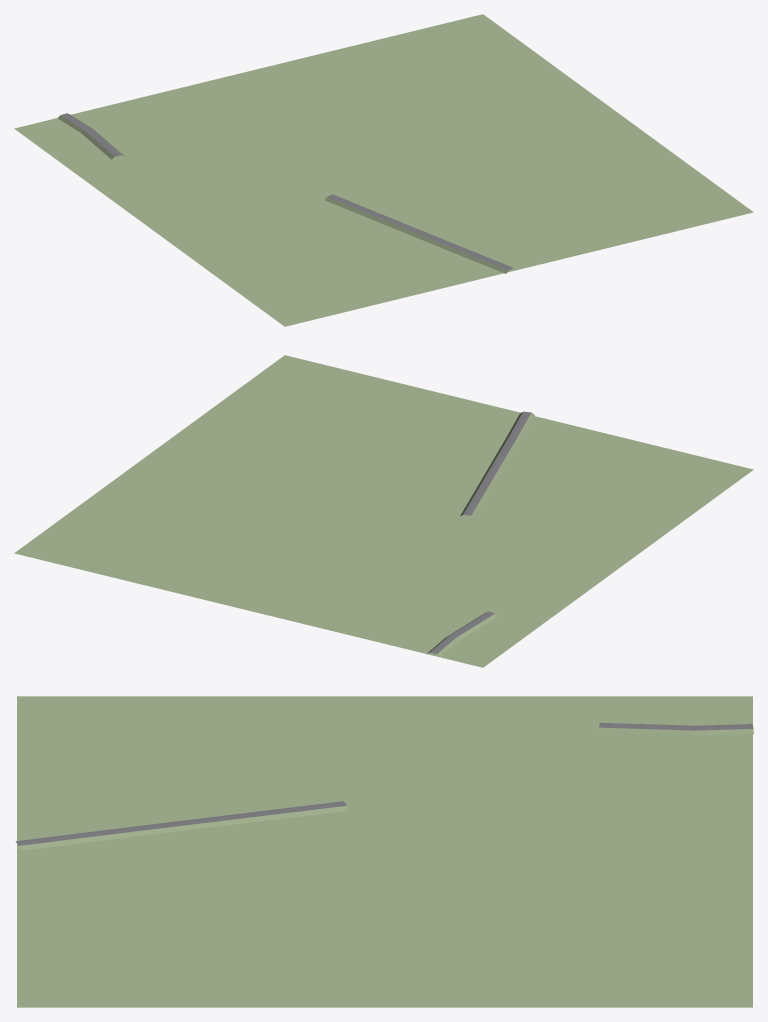
The model's file is dhamrai_chunk_x-1_z1.glb.
3 renders of one model, top to bottom at view 1: azimuth 30°, elevation 25°; view 2: azimuth 150°, elevation 25°; view 3: azimuth 270°, elevation 25°, orthographic. The views are drawn at different scales.
Visible parts, largest first — view 1: terrain, roads, embankments; view 2: terrain, roads, embankments; view 3: terrain, embankments, roads.
Part boxes in pixels (bbox=[...]): terrain: bbox=[14, 14, 753, 326]; roads: bbox=[60, 113, 513, 270]; embankments: bbox=[57, 114, 507, 273]; terrain: bbox=[14, 355, 753, 667]; roads: bbox=[430, 411, 531, 653]; embankments: bbox=[427, 412, 534, 656]; terrain: bbox=[17, 696, 752, 1007]; embankments: bbox=[18, 727, 753, 850]; roads: bbox=[15, 722, 753, 845].
Size of the model in its own units: 256 by 1.23 by 257.
